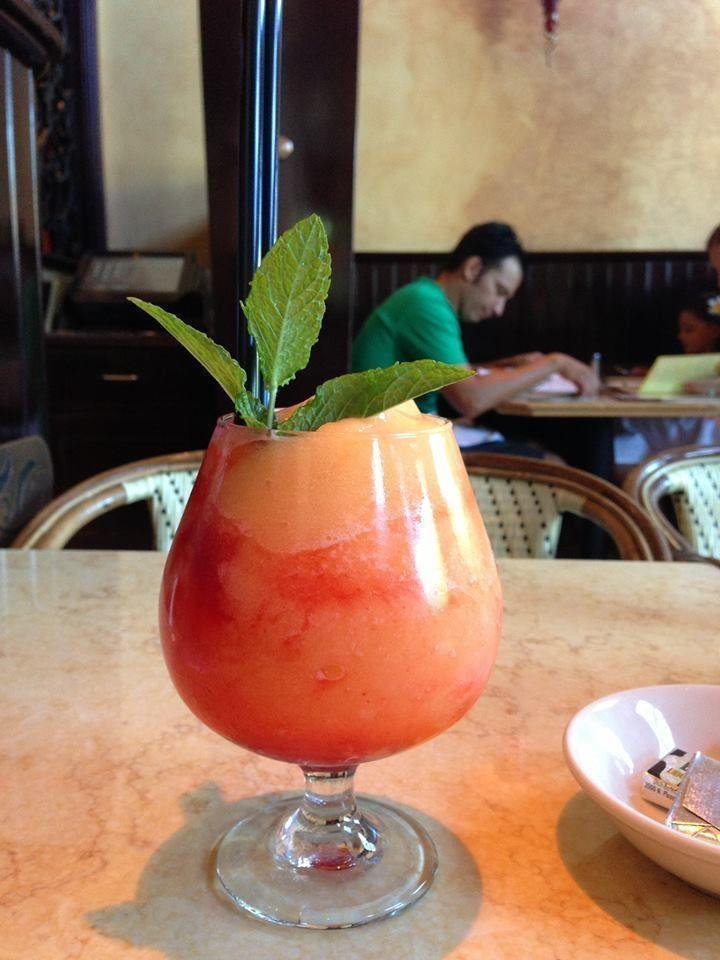glass-wine: (157, 410, 506, 932)
